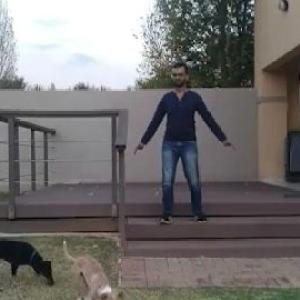land: (138, 66, 229, 236)
